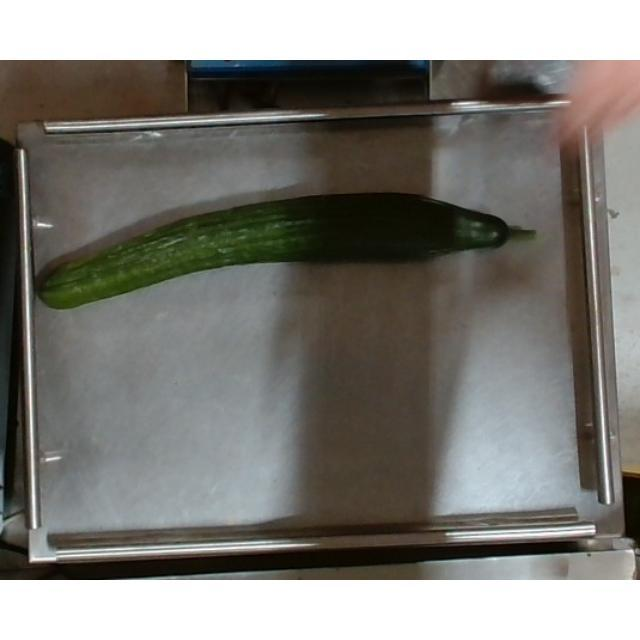cucumber: (25, 187, 557, 317)
